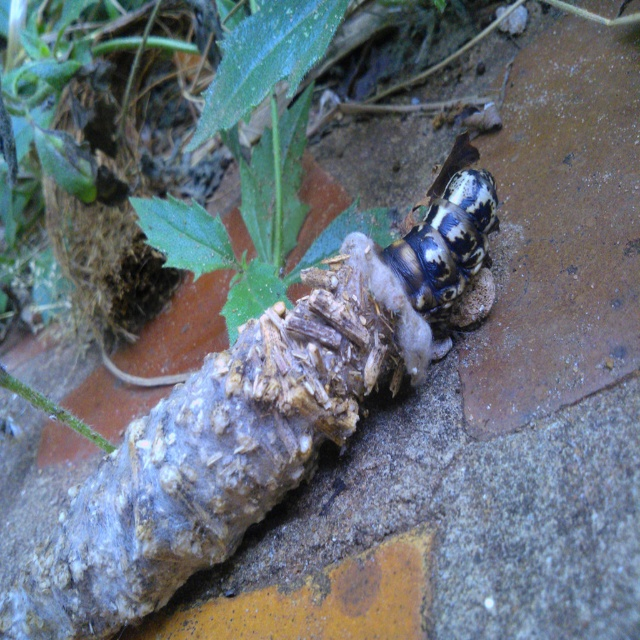Caterpillar: (375, 167, 505, 324)
